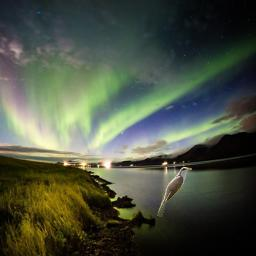Cuckoo: (156, 167, 192, 217)
